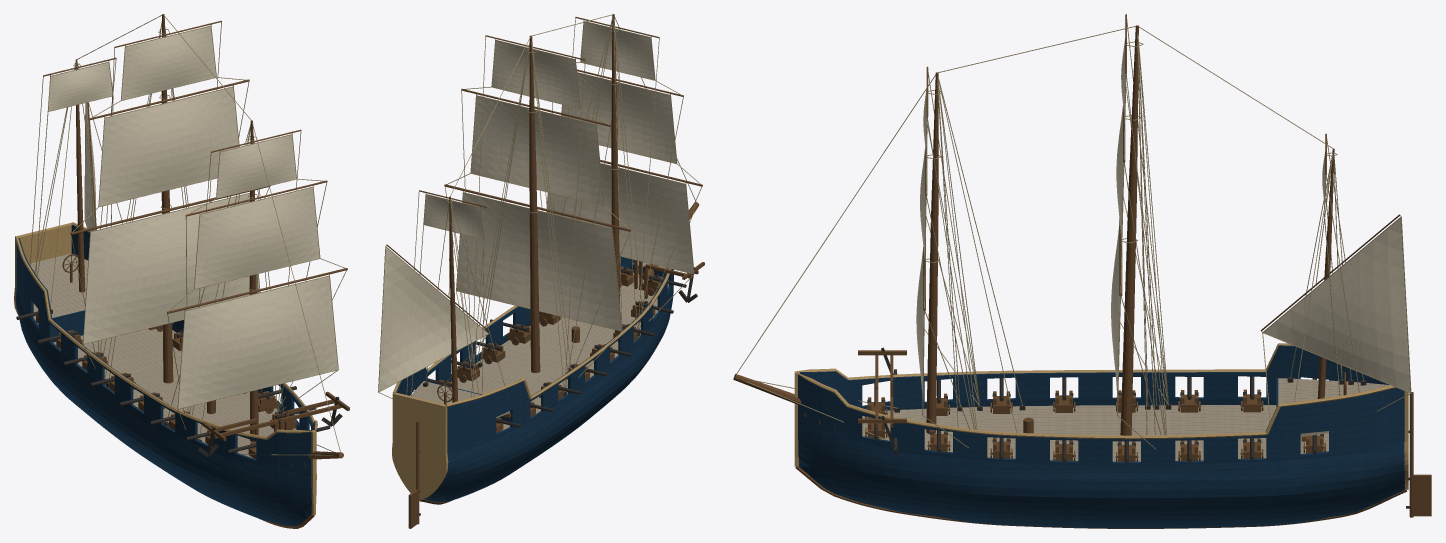
The picture shows the model from 3 angles, left to right: view 1: azimuth 30°, elevation 25°; view 2: azimuth 150°, elevation 25°; view 3: azimuth 270°, elevation 25°; orthographic projection. The views are drawn at different scales.
Parts seen in each view (by area): view 1: lod2_hull_shell_starboard, lod2_fore_square_00, lod2_main_square_00, lod2_main_square_01, lod2_fore_square_01, lod2_main_deck, lod2_main_square_02, lod2_fore_square_02, lod2_castle_deck_0, lod2_mizzen_square_00, lod2_stern_closure, lod2_gunwale_starboard (+11 smaller); view 2: lod2_hull_shell_starboard, lod2_main_square_00, lod2_main_square_01, lod2_fore_square_00, lod2_mizzen_lateen_01, lod2_main_deck, lod2_fore_square_01, lod2_stern_closure, lod2_main_square_02, lod2_fore_square_02, lod2_main, lod2_hull_shell_port (+14 smaller); view 3: lod2_hull_shell_port, lod2_mizzen_lateen_01, lod2_hull_shell_starboard, lod2_main_deck, lod2_main, lod2_fore, lod2_gunwale_port, lod2_castle_deck_0, lod2_gunwale_starboard, lod2_keel, lod2_main_square_00, lod2_mizzen (+1 smaller).
Boxes of the visible parts, bbox=[...] form: lod2_hull_shell_starboard: bbox=[15, 238, 311, 526]; lod2_fore_square_00: bbox=[178, 276, 337, 408]; lod2_main_square_00: bbox=[83, 193, 259, 343]; lod2_main_square_01: bbox=[99, 87, 238, 206]; lod2_fore_square_01: bbox=[194, 187, 319, 288]; lod2_main_deck: bbox=[33, 303, 296, 457]; lod2_main_square_02: bbox=[121, 26, 216, 99]; lod2_fore_square_02: bbox=[217, 135, 296, 197]; lod2_castle_deck_0: bbox=[29, 253, 88, 317]; lod2_mizzen_square_00: bbox=[48, 62, 112, 111]; lod2_stern_closure: bbox=[14, 222, 72, 315]; lod2_gunwale_starboard: bbox=[15, 236, 312, 439]; lod2_hull_shell_starboard: bbox=[423, 268, 673, 502]; lod2_main_square_00: bbox=[456, 193, 621, 330]; lod2_main_square_01: bbox=[471, 96, 603, 205]; lod2_fore_square_00: bbox=[547, 164, 693, 273]; lod2_mizzen_lateen_01: bbox=[378, 247, 487, 391]; lod2_main_deck: bbox=[451, 273, 668, 430]; lod2_fore_square_01: bbox=[561, 73, 676, 163]; lod2_stern_closure: bbox=[392, 392, 448, 499]; lod2_main_square_02: bbox=[492, 40, 580, 108]; lod2_fore_square_02: bbox=[580, 22, 654, 79]; lod2_main: bbox=[529, 35, 540, 372]; lod2_hull_shell_port: bbox=[396, 256, 638, 395]; lod2_hull_shell_port: bbox=[798, 374, 1405, 528]; lod2_mizzen_lateen_01: bbox=[1263, 218, 1410, 392]; lod2_hull_shell_starboard: bbox=[799, 345, 1388, 410]; lod2_main_deck: bbox=[862, 404, 1328, 461]; lod2_main: bbox=[1120, 25, 1138, 435]; lod2_fore: bbox=[926, 72, 938, 433]; lod2_gunwale_port: bbox=[797, 373, 1396, 439]; lod2_castle_deck_0: bbox=[1278, 378, 1390, 436]; lod2_gunwale_starboard: bbox=[797, 343, 1293, 379]; lod2_keel: bbox=[795, 466, 1407, 528]; lod2_main_square_00: bbox=[1111, 225, 1120, 399]; lod2_mizzen: bbox=[1317, 148, 1334, 398].
Size of the model in its own units: 9.21 by 19.61 by 24.65.
Materials: 7 (7 with a texture image).
